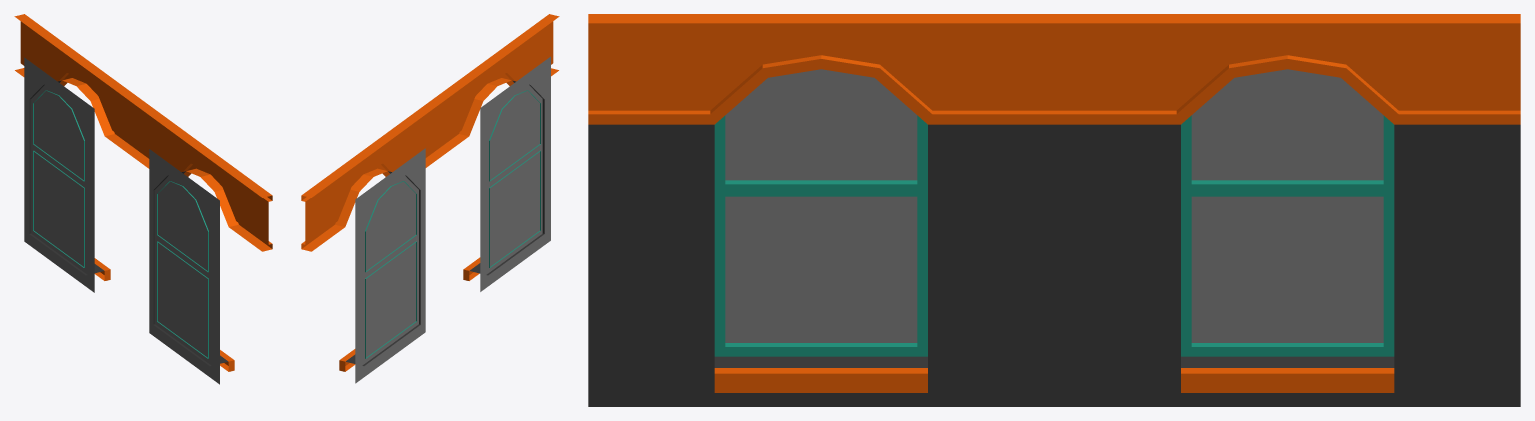
Rendered from SM_M_Build_02.fbx.
The picture shows the model from 3 angles, left to right: view 1: azimuth 30°, elevation 25°; view 2: azimuth 150°, elevation 25°; view 3: azimuth 270°, elevation 25°; orthographic projection. The views are drawn at different scales.
Visible parts, largest first — view 1: SM_M_Build_02, Plane002, Plane001; view 2: SM_M_Build_02, Plane001, Plane002; view 3: SM_M_Build_02, Plane001, Plane002.
Boxes of the visible parts, <box> form: SM_M_Build_02: <box>14,14,272,371</box>; Plane002: <box>24,57,94,292</box>; Plane001: <box>149,149,219,384</box>; SM_M_Build_02: <box>301,14,559,371</box>; Plane001: <box>480,56,550,291</box>; Plane002: <box>355,148,425,383</box>; SM_M_Build_02: <box>588,14,1520,406</box>; Plane001: <box>725,69,917,342</box>; Plane002: <box>1191,69,1383,342</box>.
Size of the model in its own units: 77.19 by 530 by 1140.
